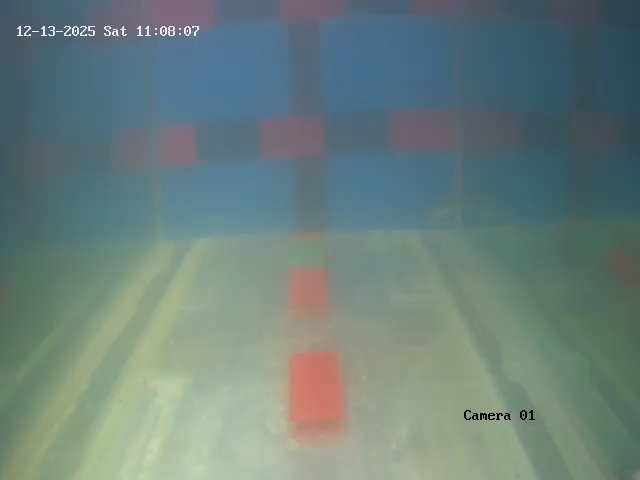fish: (428, 193, 458, 223)
